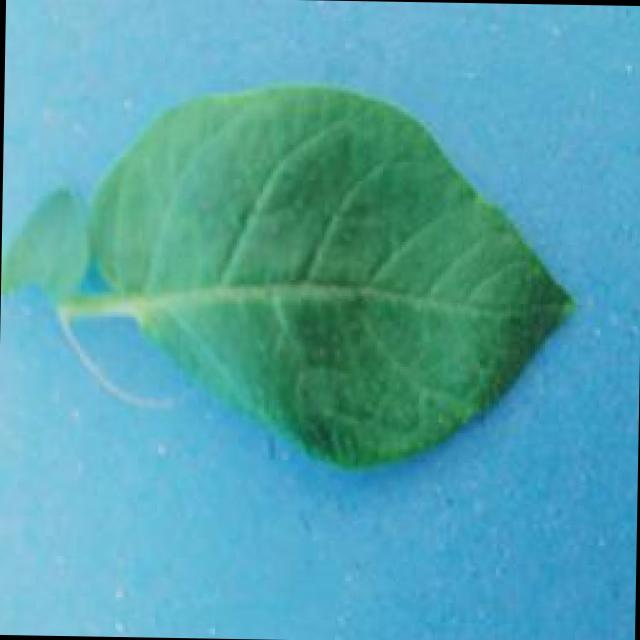Potato_Healthy: (1, 79, 579, 472)
